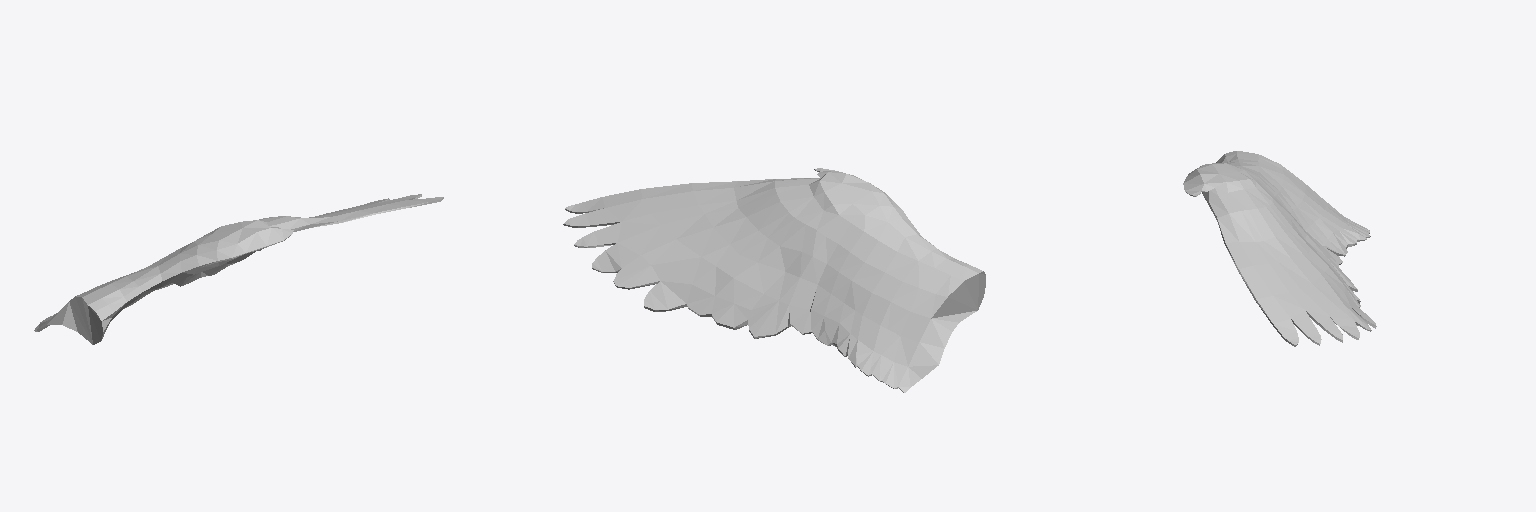
File: alader.obj
The picture shows the model from 3 angles: view 1: azimuth 30°, elevation 25°; view 2: azimuth 150°, elevation 25°; view 3: azimuth 270°, elevation 25°; orthographic projection.
Parts seen in each view (by area): view 1: alader; view 2: alader; view 3: alader.
Part boxes in pixels (bbox=[...]): alader: bbox=[34, 194, 443, 344]; alader: bbox=[563, 168, 985, 392]; alader: bbox=[1183, 151, 1376, 346].
Bounding box in the file's own units: 1.75 × 0.5367 × 0.7515.